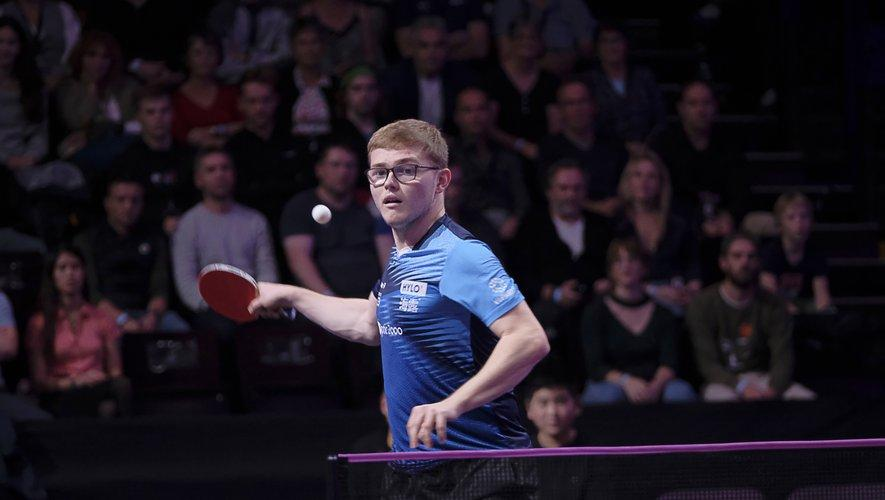ball_pingpong: (311, 205, 332, 222)
